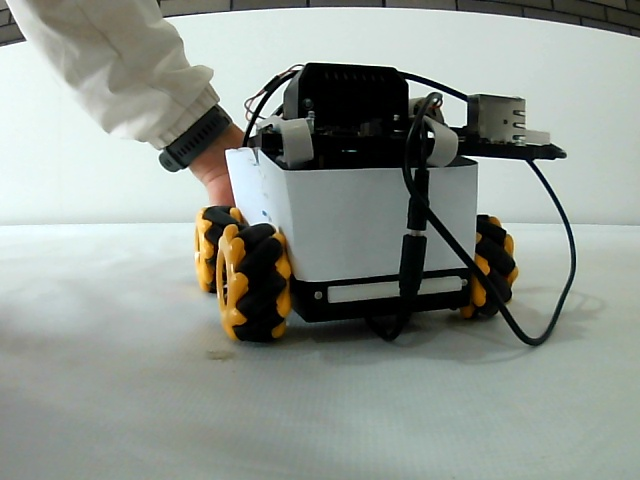car: (192, 60, 521, 342)
paper: (257, 158, 476, 281)
